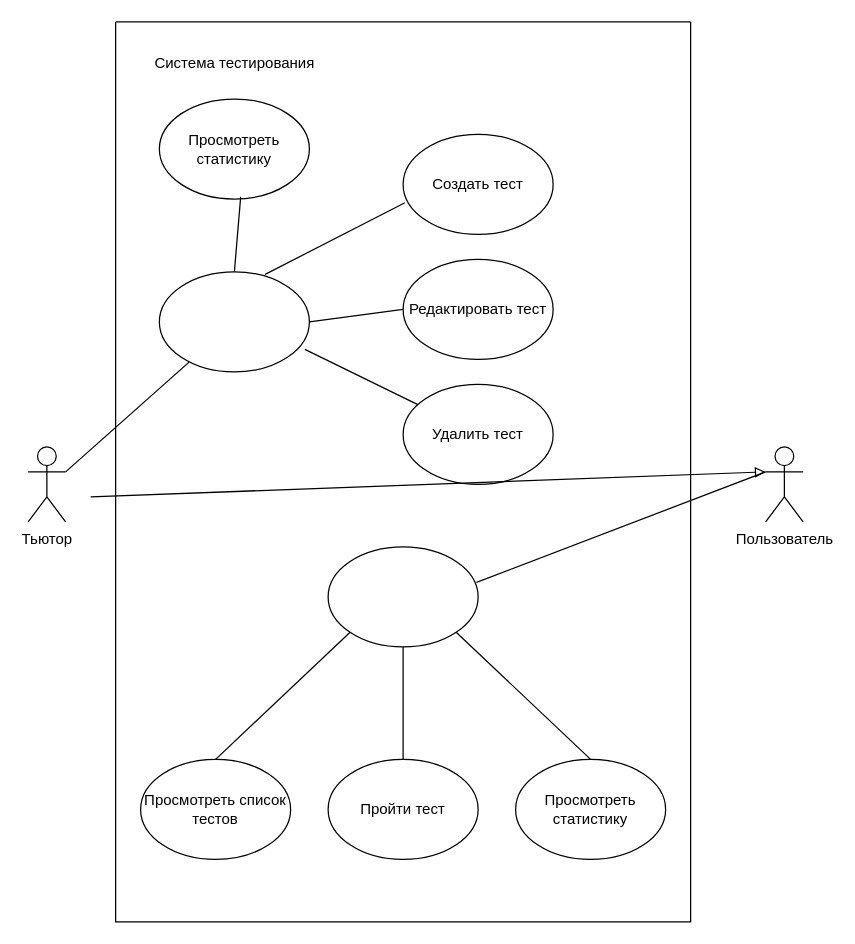
Some shapes in this 855 by 944 pixel diagram are drawn without their labels. The shapes that lost their labels are listed below. From the top down, each one's box as (x1, y1, x2, y2) in pixels, then its label:
(158, 271, 309, 372): Работа с тестом
(327, 546, 478, 647): Взаимодействие с тестом
